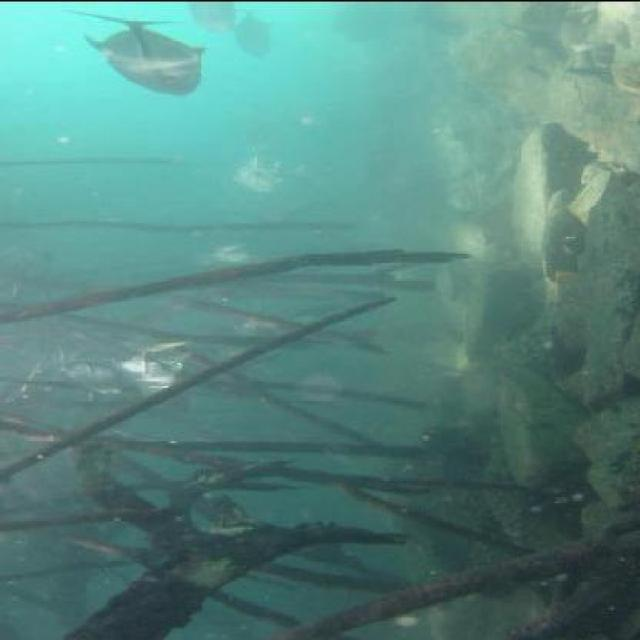Caranx_sexfasciatus_juvenile: (68, 10, 214, 101), (98, 340, 198, 395), (126, 343, 194, 412), (222, 138, 290, 198), (57, 359, 131, 399), (182, 0, 247, 37), (233, 9, 282, 57), (192, 240, 260, 274)
